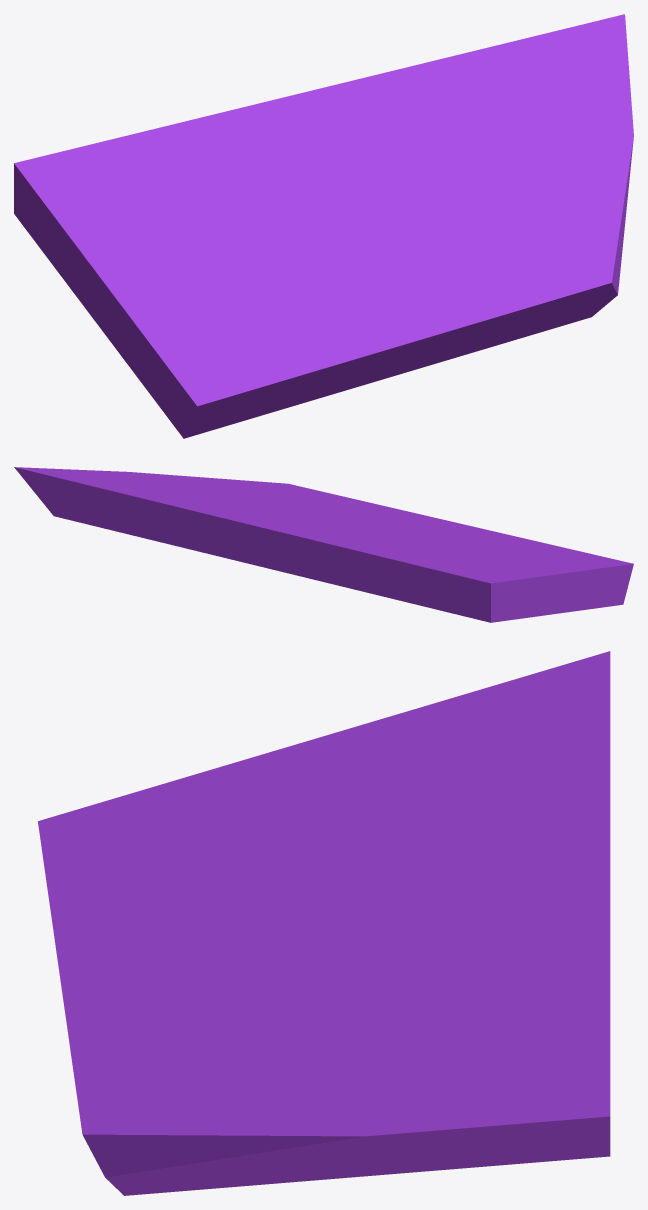
The model's file is Window_137_3_chunks.fbx.
3 renders of one model, top to bottom at view 1: azimuth 30°, elevation 25°; view 2: azimuth 150°, elevation 25°; view 3: azimuth 270°, elevation 25°, orthographic. The views are drawn at different scales.
Parts seen in each view (by area): view 1: Window_137_3_8, Window_137_3_5, Window_137_3_0, Window_137_3_9, Window_137_3_3, Window_137_3_17, Window_137_3_10, Window_137_3_6, Window_137_3_12, Window_137_3_7, Window_137_3_16, Window_137_3_13 (+3 smaller); view 2: Window_137_3_17, Window_137_3_5, Window_137_3_0, Window_137_3_8, Window_137_3_2, Window_137_3_9, Window_137_3_10, Window_137_3_3, Window_137_3_6, Window_137_3_12, Window_137_3_16, Window_137_3_13 (+2 smaller); view 3: Window_137_3_5, Window_137_3_3, Window_137_3_8, Window_137_3_9, Window_137_3_0, Window_137_3_17, Window_137_3_6, Window_137_3_12, Window_137_3_10, Window_137_3_16, Window_137_3_13, Window_137_3_2 (+3 smaller).
Boxes of the visible parts, x1=… form: Window_137_3_8: x1=61, y1=265, x2=328, y2=438; Window_137_3_5: x1=448, y1=14, x2=633, y2=177; Window_137_3_0: x1=14, y1=130, x2=263, y2=275; Window_137_3_9: x1=269, y1=250, x2=482, y2=370; Window_137_3_3: x1=513, y1=163, x2=630, y2=313; Window_137_3_17: x1=312, y1=47, x2=490, y2=173; Window_137_3_10: x1=54, y1=216, x2=282, y2=289; Window_137_3_6: x1=414, y1=130, x2=520, y2=304; Window_137_3_12: x1=248, y1=194, x2=441, y2=268; Window_137_3_7: x1=303, y1=282, x2=521, y2=402; Window_137_3_16: x1=241, y1=90, x2=356, y2=198; Window_137_3_13: x1=46, y1=198, x2=272, y2=230; Window_137_3_17: x1=117, y1=492, x2=304, y2=567; Window_137_3_5: x1=14, y1=467, x2=232, y2=531; Window_137_3_0: x1=359, y1=541, x2=529, y2=622; Window_137_3_8: x1=465, y1=539, x2=633, y2=617; Window_137_3_2: x1=265, y1=533, x2=432, y2=608; Window_137_3_9: x1=347, y1=506, x2=525, y2=543; Window_137_3_10: x1=432, y1=541, x2=564, y2=604; Window_137_3_3: x1=161, y1=474, x2=364, y2=502; Window_137_3_6: x1=224, y1=494, x2=362, y2=513; Window_137_3_12: x1=307, y1=512, x2=450, y2=545; Window_137_3_16: x1=258, y1=522, x2=390, y2=553; Window_137_3_13: x1=388, y1=539, x2=522, y2=590; Window_137_3_5: x1=303, y1=989, x2=610, y2=1179; Window_137_3_3: x1=72, y1=1052, x2=334, y2=1179; Window_137_3_8: x1=38, y1=740, x2=311, y2=918; Window_137_3_9: x1=51, y1=864, x2=266, y2=1032; Window_137_3_0: x1=418, y1=651, x2=610, y2=851; Window_137_3_17: x1=391, y1=878, x2=610, y2=1014; Window_137_3_6: x1=86, y1=969, x2=465, y2=1059; Window_137_3_12: x1=229, y1=843, x2=413, y2=997; Window_137_3_10: x1=269, y1=688, x2=483, y2=873; Window_137_3_16: x1=404, y1=829, x2=610, y2=921; Window_137_3_13: x1=362, y1=680, x2=510, y2=858; Window_137_3_2: x1=521, y1=755, x2=610, y2=851.
Bounding box in the file's own units: 1270 × 301 × 660.
